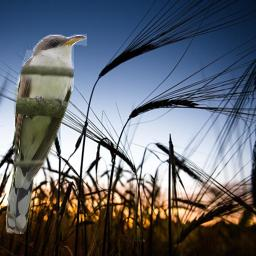Cuckoo: (6, 34, 87, 234)
